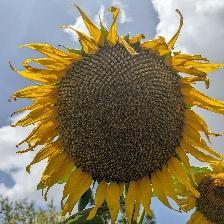sunflower: (31, 32, 206, 198), (182, 162, 224, 224)
